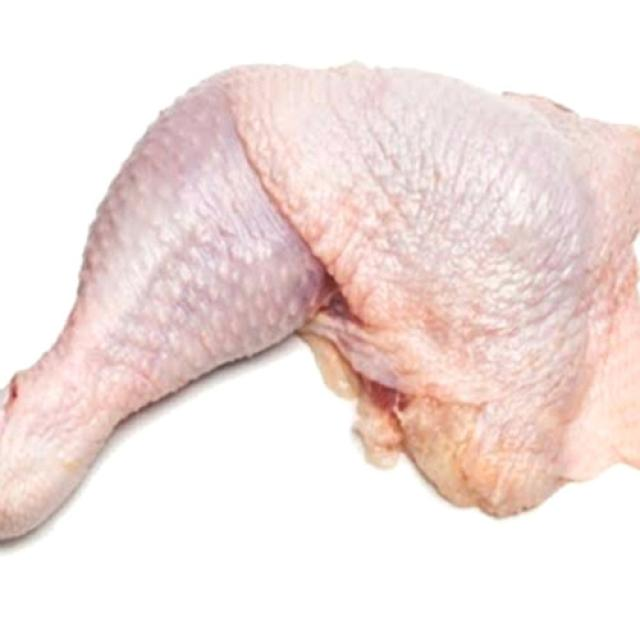chicken: (0, 70, 635, 536)
